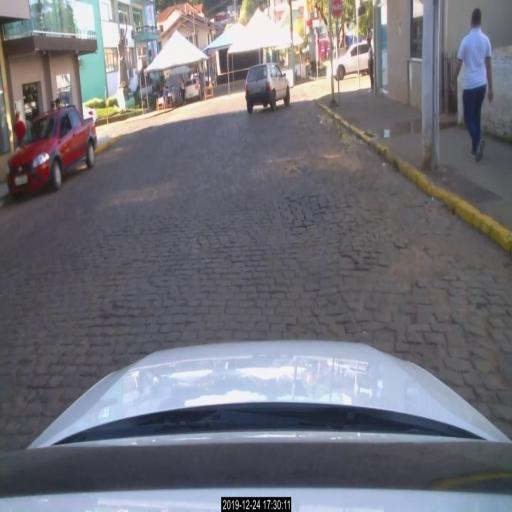Pothole: (384, 237, 460, 308)
